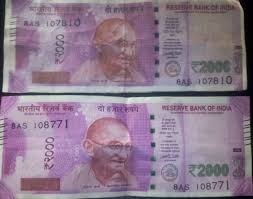twoThousand: (14, 119, 242, 182)
